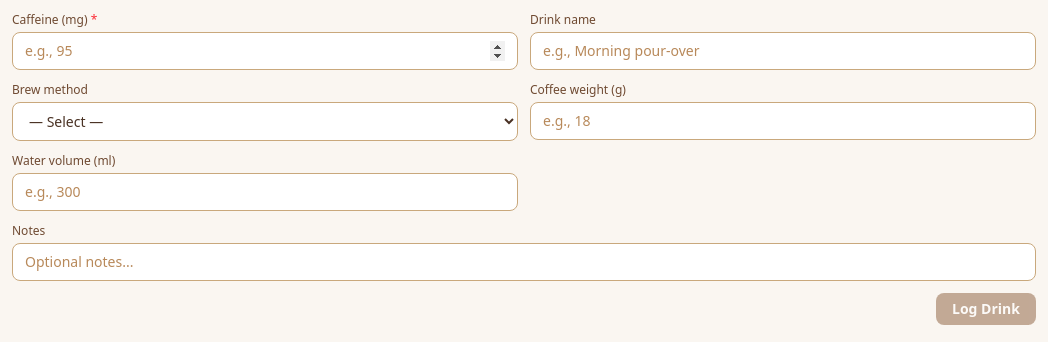
Test: DrinkLogForm › disables the submit button while caffeine is invalid
This screenshot has width=1048, height=342.
Expected: the button "Log Drink" is disabled, [936,293,1036,325]
Type "100" into the number field labelled "Caffeine (mg) *" at (265, 51), box [12,32,518,70]
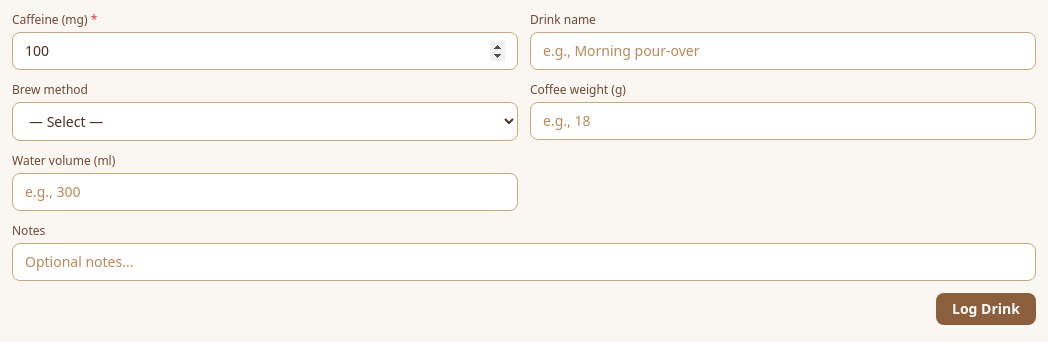
Result: the button "Log Drink" is enabled at [936,293,1036,325]
Replace the text in the number field labelled "Caffeine (mg) *" with "5000" at (265, 51), box [12,32,518,70]
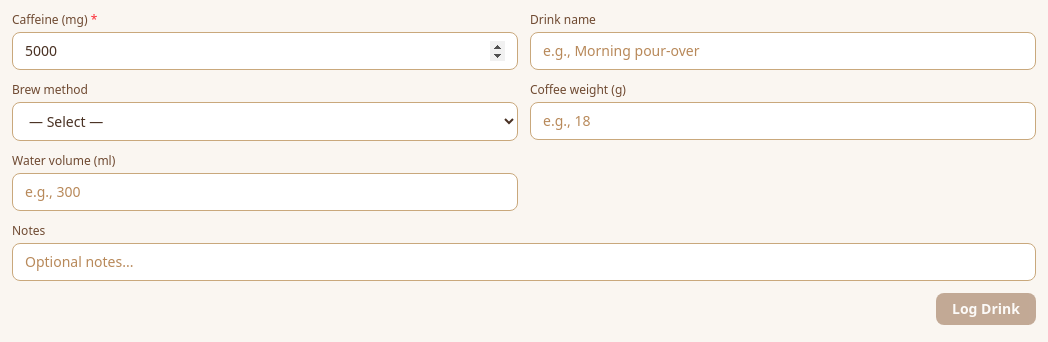
Result: the button "Log Drink" is disabled at [936,293,1036,325]
